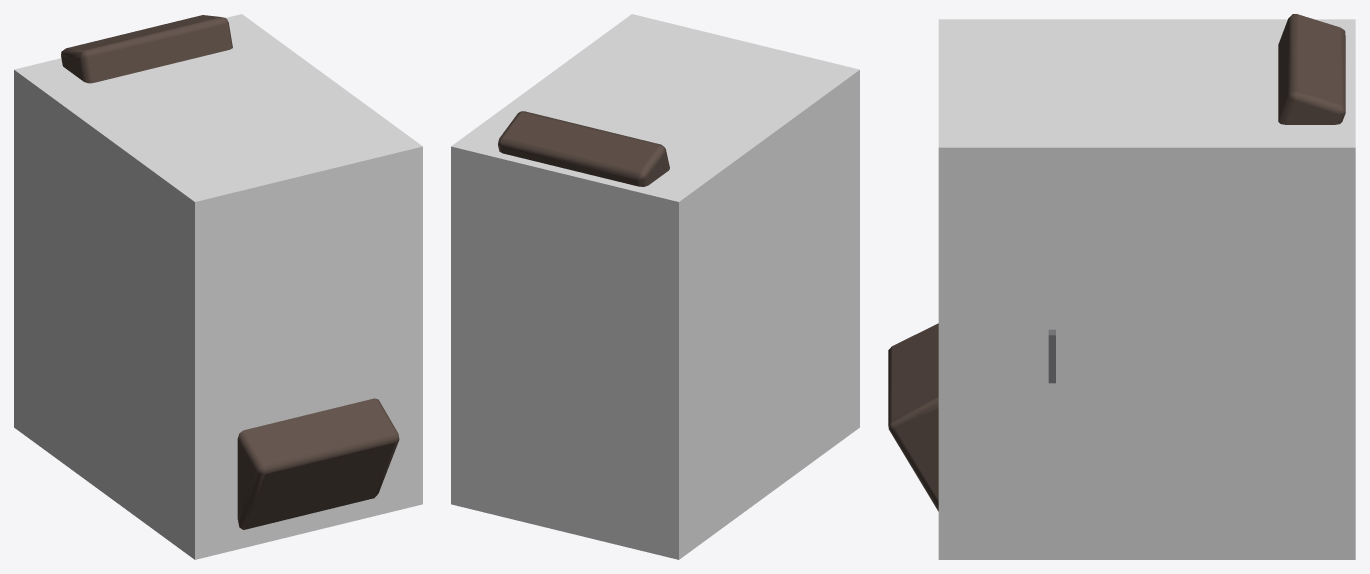
Rendered from massage_chair.glb.
3 renders of one model, left to right at view 1: azimuth 30°, elevation 25°; view 2: azimuth 150°, elevation 25°; view 3: azimuth 270°, elevation 25°, orthographic. The views are drawn at different scales.
Parts seen in each view (by area): view 1: COL_Chair, MassageChair; view 2: COL_Chair, MassageChair; view 3: COL_Chair, MassageChair.
Part boxes in pixels (<box>): COL_Chair: <box>14,14,422,559</box>; MassageChair: <box>61,15,399,529</box>; COL_Chair: <box>451,14,859,559</box>; MassageChair: <box>498,111,669,186</box>; COL_Chair: <box>938,19,1355,559</box>; MassageChair: <box>888,14,1345,511</box>.
Size of the model in its own units: 0.835 by 1.29 by 1.23.
